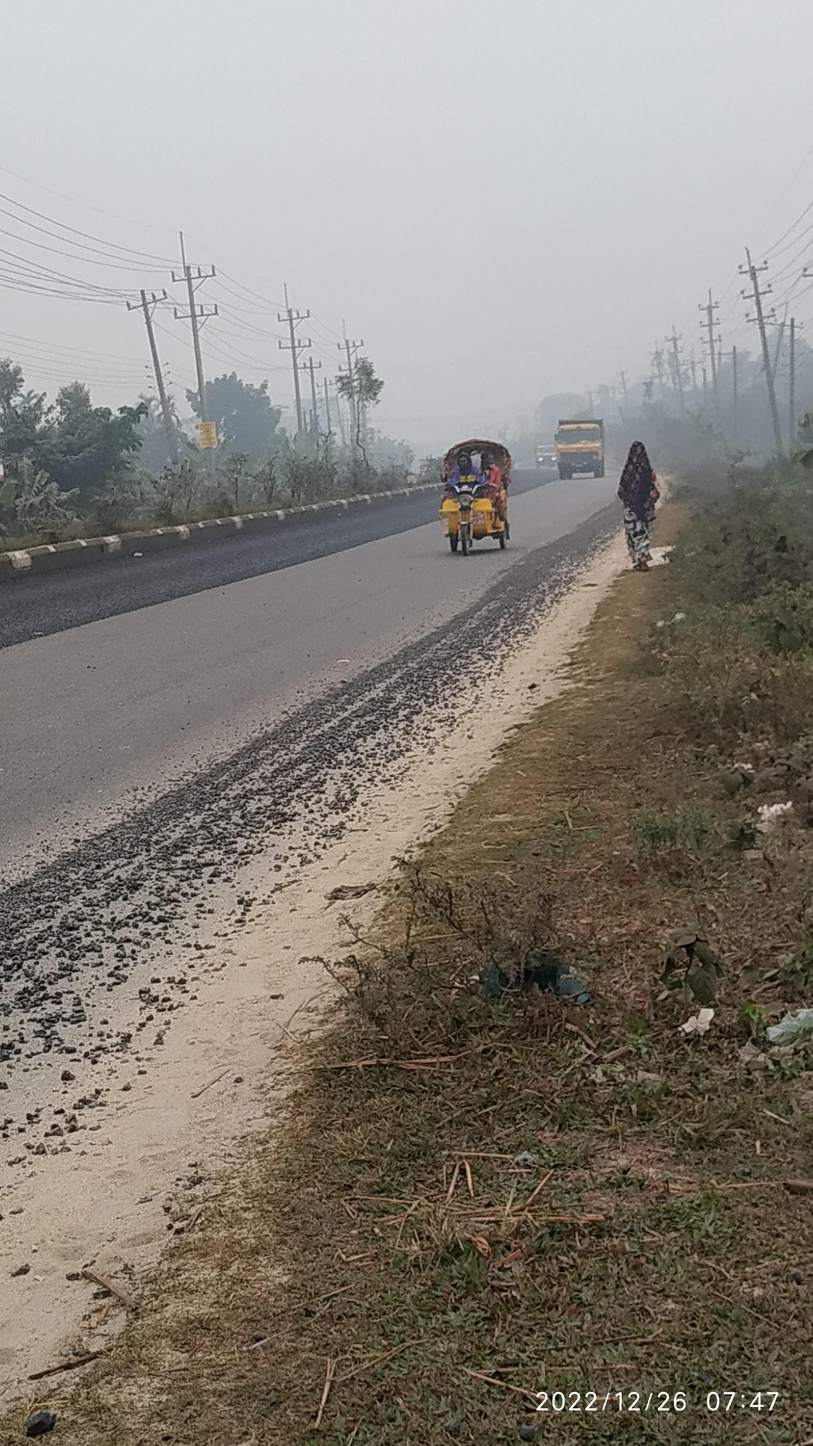Car: (429, 429, 534, 571)
Truck: (548, 396, 623, 506)
